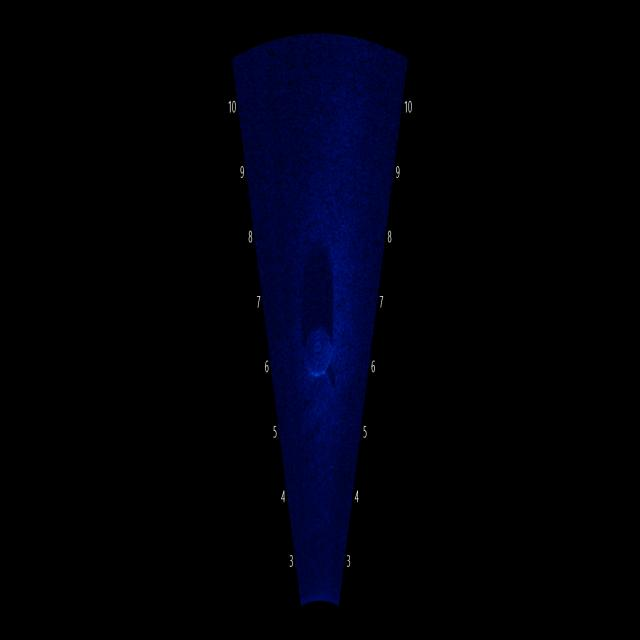circle: (302, 310, 340, 397)
